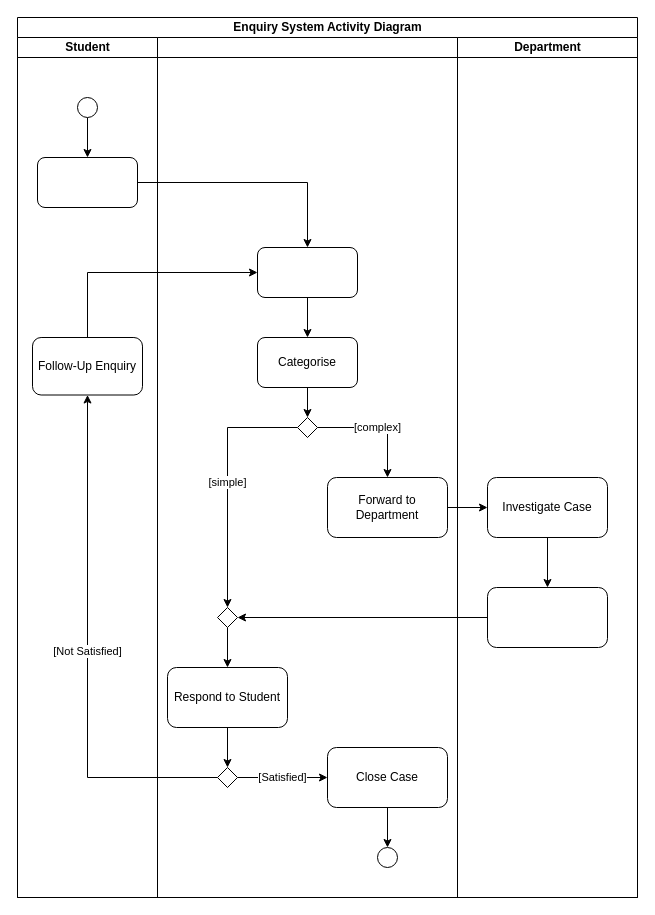
Some shapes in this 655 by 915 pixel diagram are drawn without their labels. Here are the shapes that lost their labels. From the top down, the box of each, then its label:
(36, 156, 138, 208): Submit Enquiry
(256, 246, 358, 298): Receive Enquiry
(156, 36, 458, 898): Administrative Officer
(486, 586, 608, 648): Return Investigation Result
